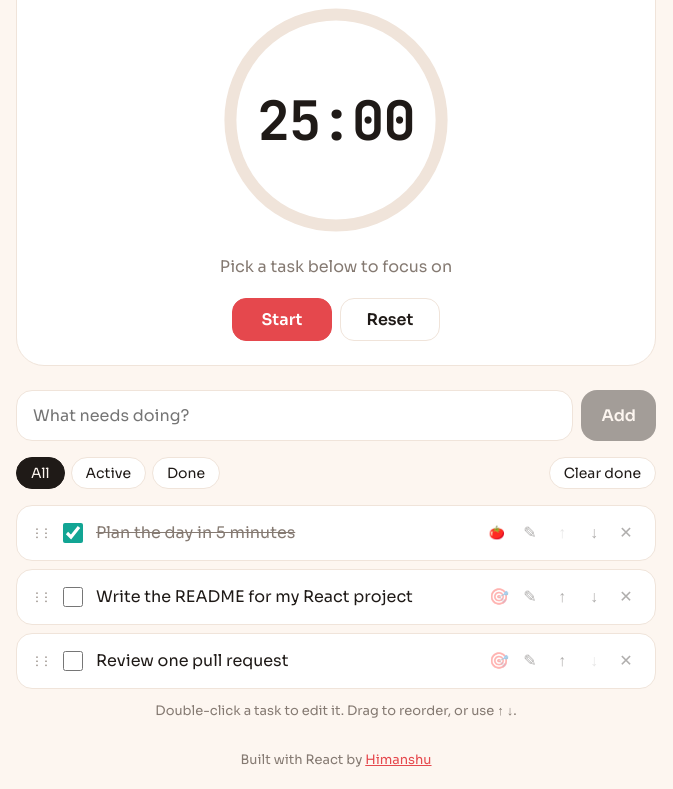
Test: <App /> › edits a task inline with double-click
(page scrolled)
Double-click the text "Review one pull request" at [192, 661], box [96,650,288,671]
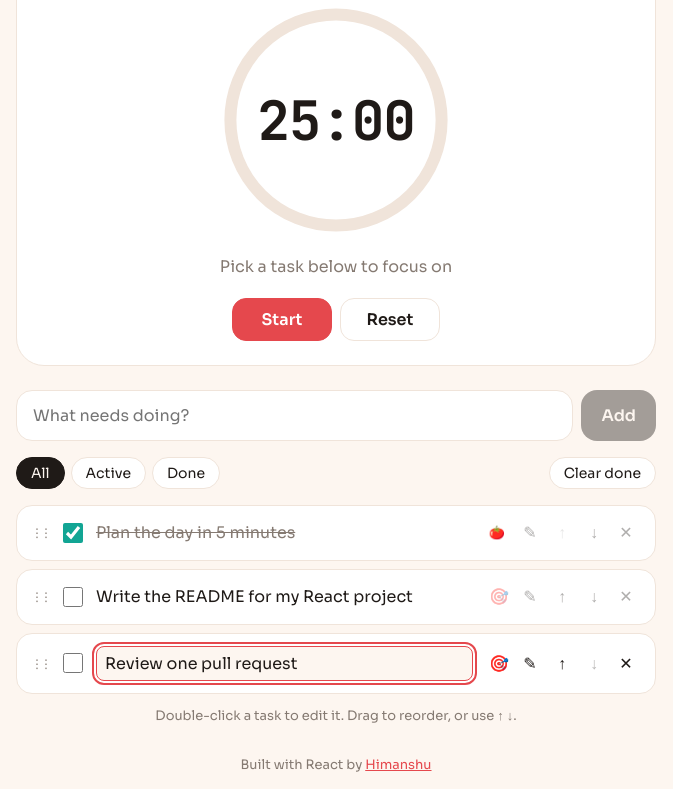
Replace the text in the field named "Edit task" with "Review two pull requests" at [284, 663], box [96,646,473,681]
Then press Enter
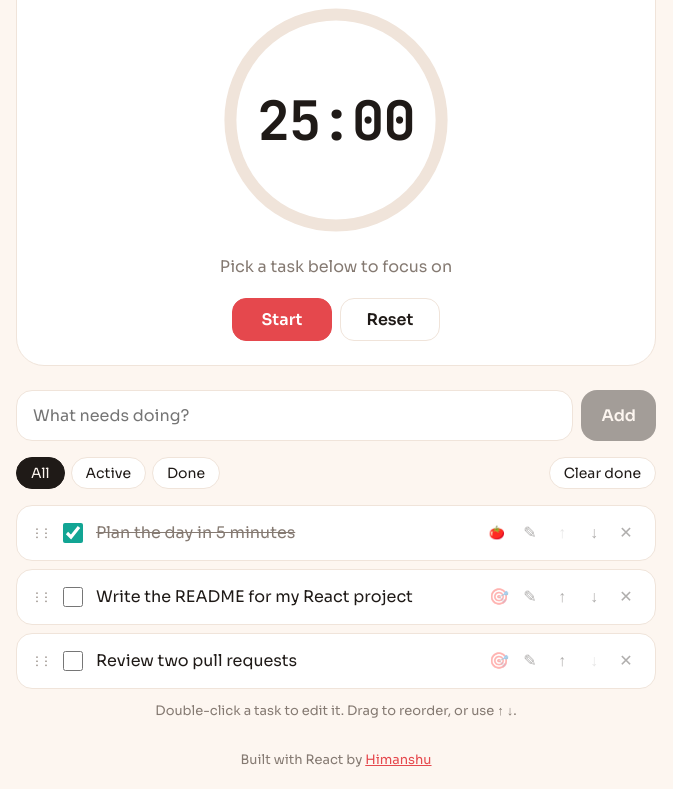
Expected: the text "Review two pull requests" is shown, [96,650,297,671]
